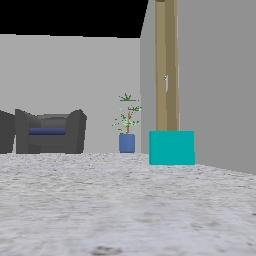fotoliu: (15, 109, 86, 152), (0, 110, 14, 153)
planta: (112, 94, 141, 152)
turcoaz: (149, 130, 194, 164)
